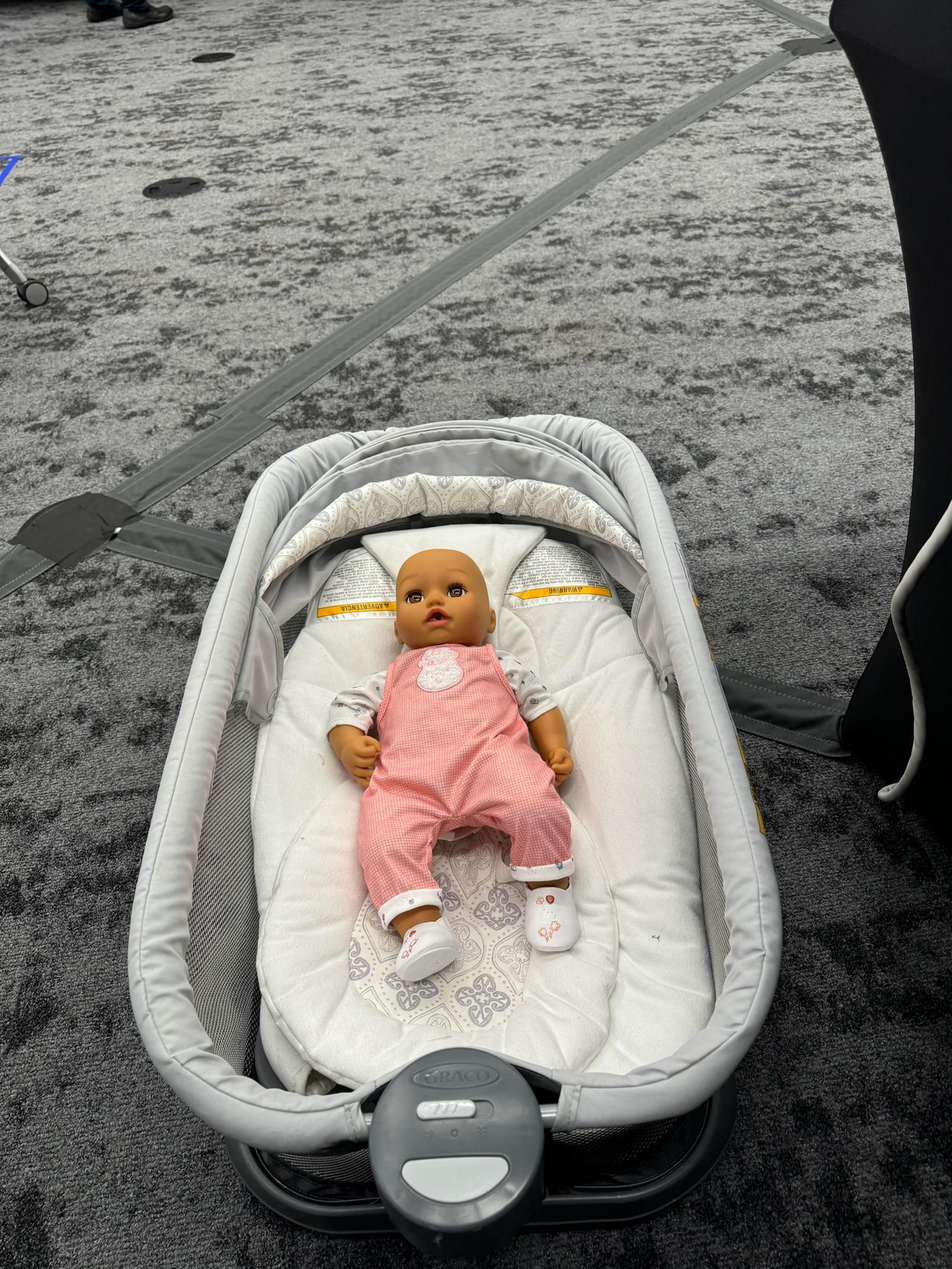baby: (321, 546, 608, 971)
